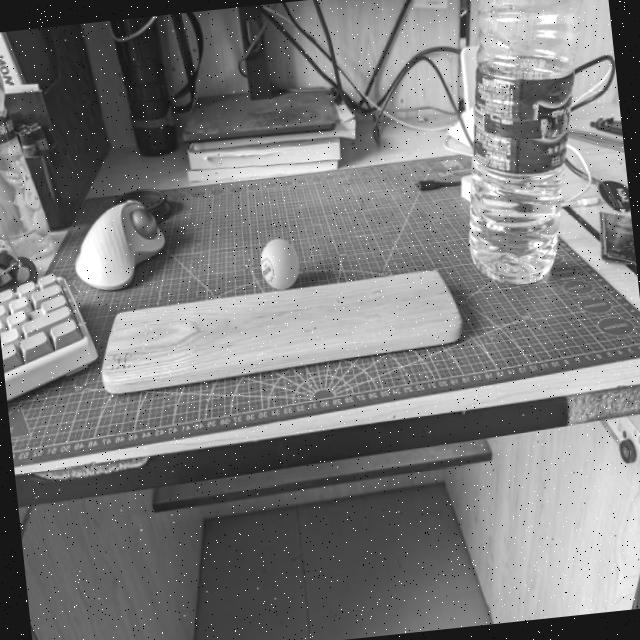ping-pong-ball: (257, 236, 302, 292)
